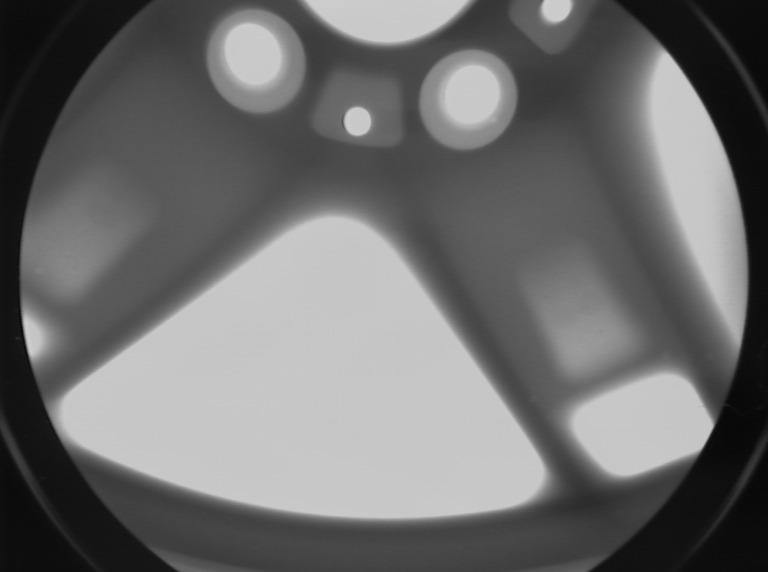defect: (32, 262, 48, 280)
